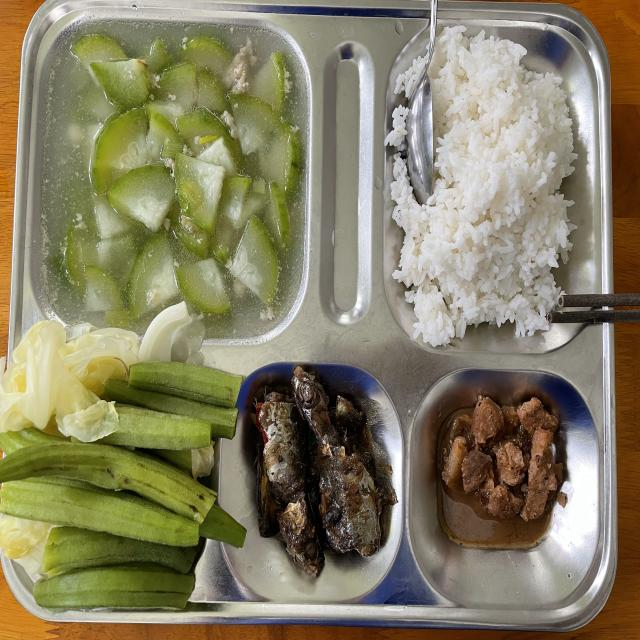ca_kho: (258, 382, 387, 577)
com_trang: (411, 57, 568, 335)
thit_kho: (439, 402, 562, 534)
